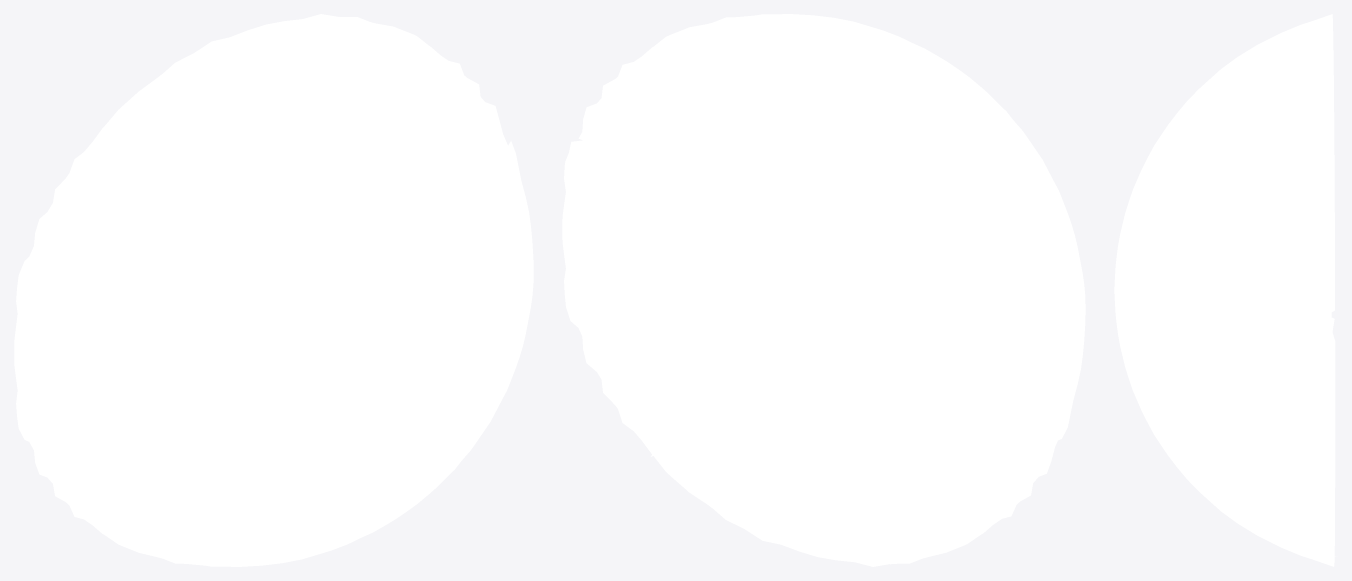
File: mdl_duc_sci_spacedome_emissive.glb
3 views of the same model, side by side, from view 1: azimuth 30°, elevation 25°; view 2: azimuth 150°, elevation 25°; view 3: azimuth 270°, elevation 25° (orthographic). The views are drawn at different scales.
Visible parts, largest first — view 1: low-angle-shot-mesmerizing-starry-sky; view 2: low-angle-shot-mesmerizing-starry-sky; view 3: low-angle-shot-mesmerizing-starry-sky.
Boxes of the visible parts, box(x1,y1,x2,y2) form: low-angle-shot-mesmerizing-starry-sky: box(14, 14, 533, 566); low-angle-shot-mesmerizing-starry-sky: box(562, 14, 1085, 566); low-angle-shot-mesmerizing-starry-sky: box(1114, 14, 1335, 566).
Size of the model in its own units: 1.94 by 1.94 by 0.7893.
1 material, 1 textured.
